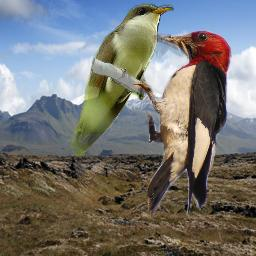Cuckoo: (69, 3, 174, 157)
Woodpecker: (133, 30, 232, 218)
